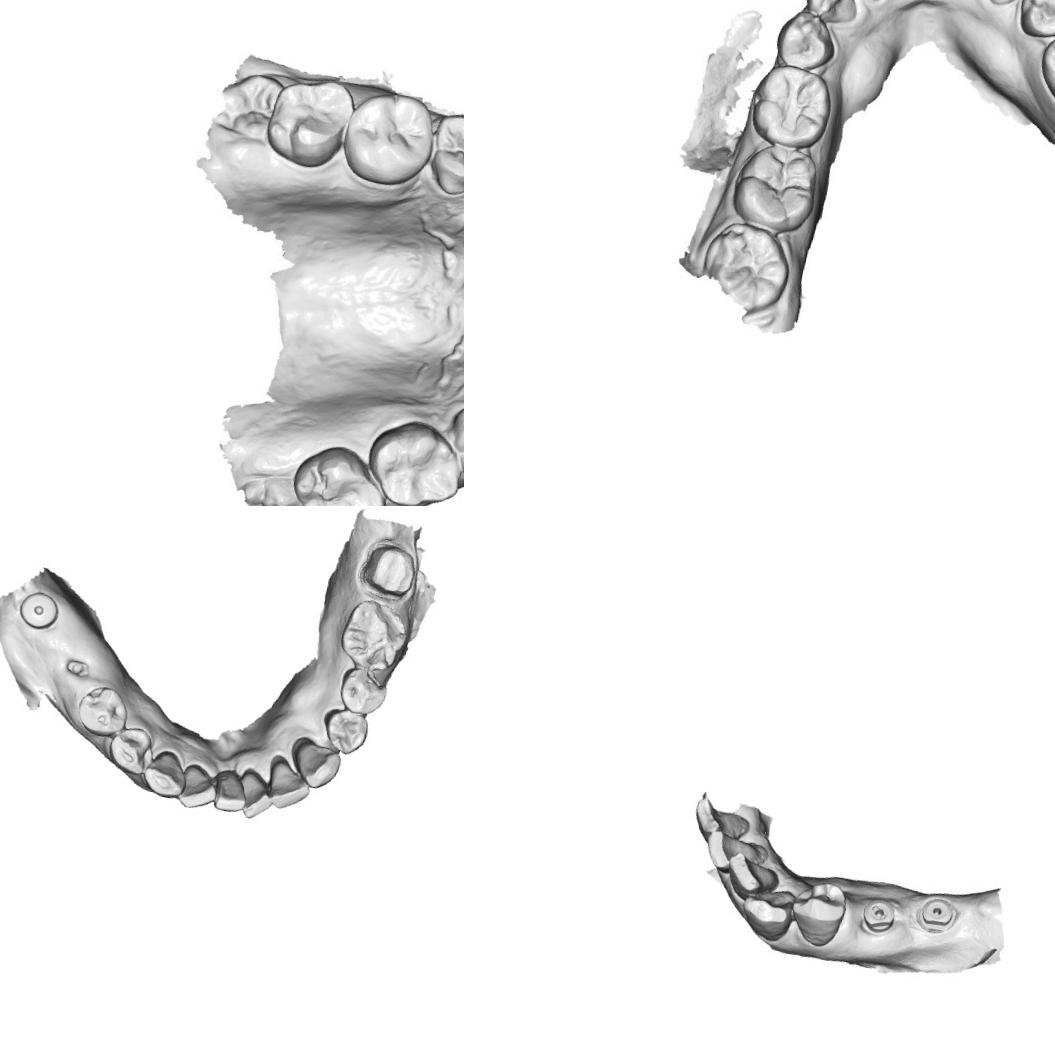canine: (736, 882, 798, 945), (286, 735, 345, 793), (138, 744, 191, 801), (800, 0, 865, 29)
crown: (352, 537, 423, 606)
implant: (15, 586, 62, 633), (912, 891, 958, 936)
implant_minus: (858, 894, 900, 938)
incisor: (701, 826, 772, 880), (688, 792, 755, 847), (721, 849, 784, 905), (261, 756, 316, 814), (173, 759, 222, 814), (232, 766, 277, 823), (207, 765, 249, 815)
molar: (336, 82, 442, 194), (694, 214, 798, 318), (258, 68, 358, 174), (725, 137, 824, 236), (362, 412, 464, 506), (744, 60, 837, 154), (287, 442, 391, 506), (334, 593, 414, 675), (1031, 15, 1055, 118)
premolar: (784, 876, 851, 952), (770, 5, 841, 74), (422, 107, 464, 198), (72, 678, 132, 740), (102, 720, 160, 778), (334, 662, 392, 719), (316, 706, 371, 757), (1014, 0, 1055, 45), (448, 403, 464, 482)
